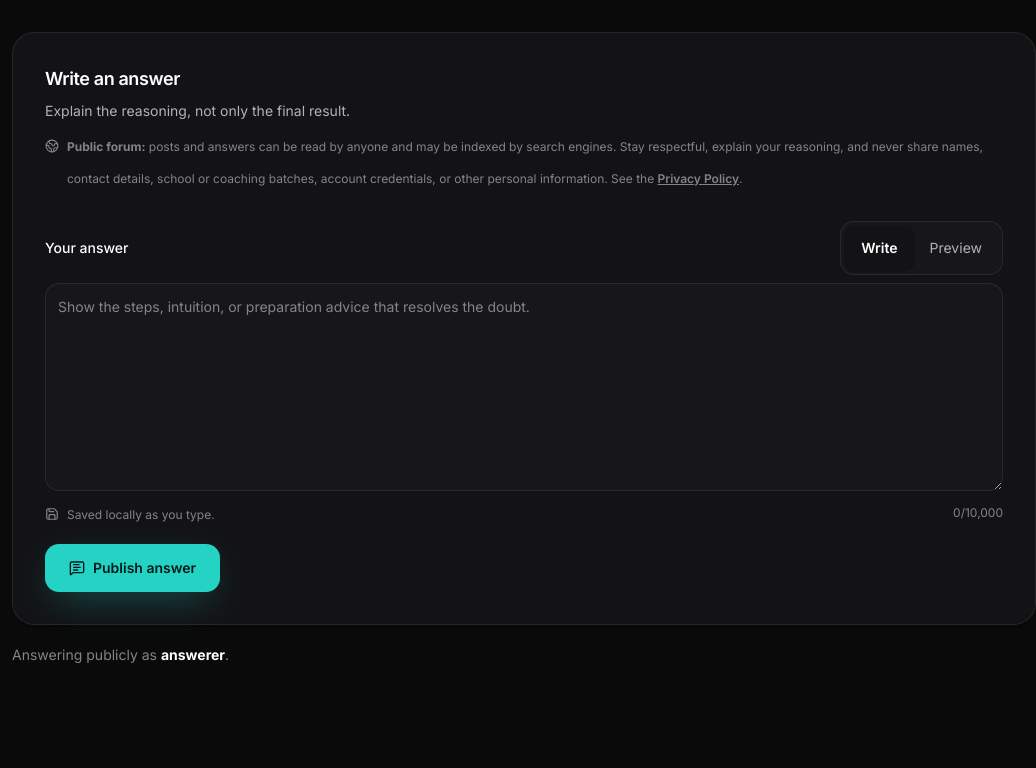
Test: forum answer composer › retains worked maths locally after a failed answer
The width and height of the screenshot is (1036, 768).
Check: the text "Answering publicly as answerer." is shown, box [12,646,229,663]
Step 1. Replace the text in the text box labelled "Your answer" with "First use $$L_i=L_f$$, then substitute the two moments of inertia." → (524, 386), box [45,282,1003,490]
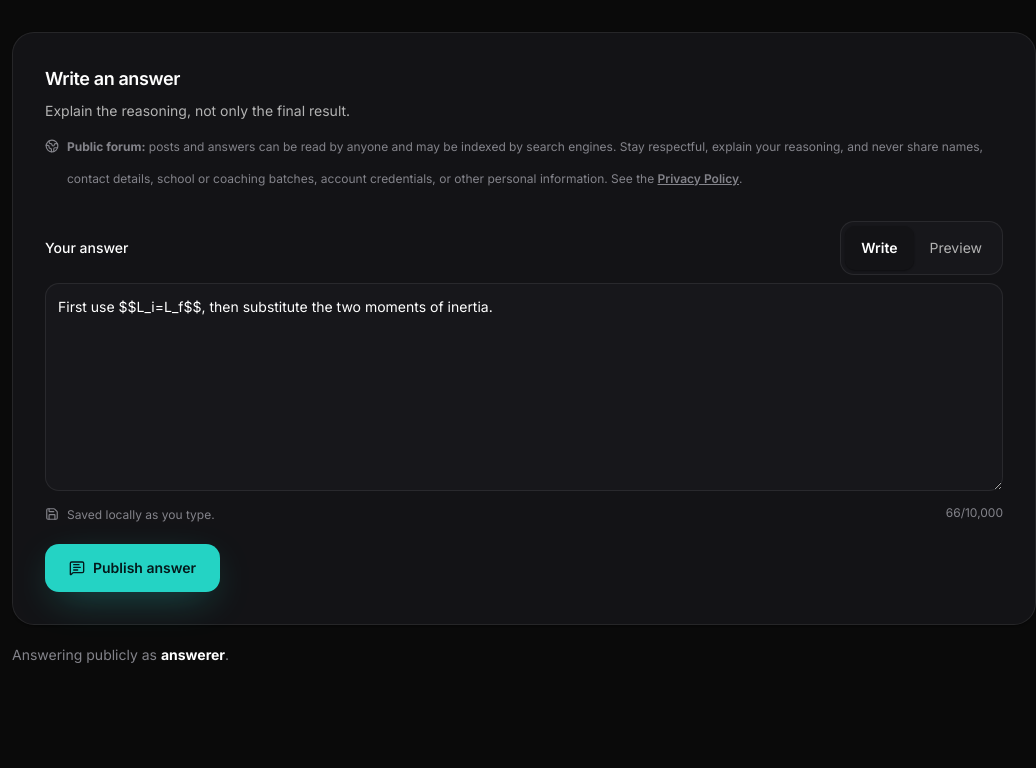
Step 2. Click the button "Publish answer" → (133, 568), box [45,544,220,592]
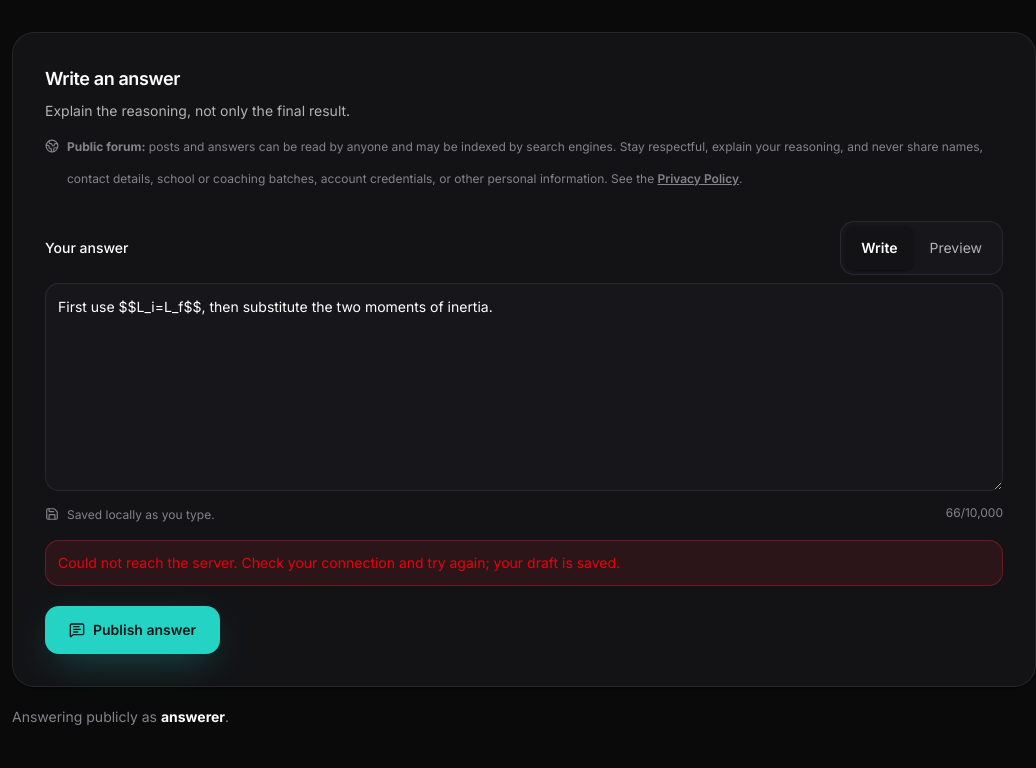
Check: the 1st message shows "draft is saved", box [58,554,620,571]
